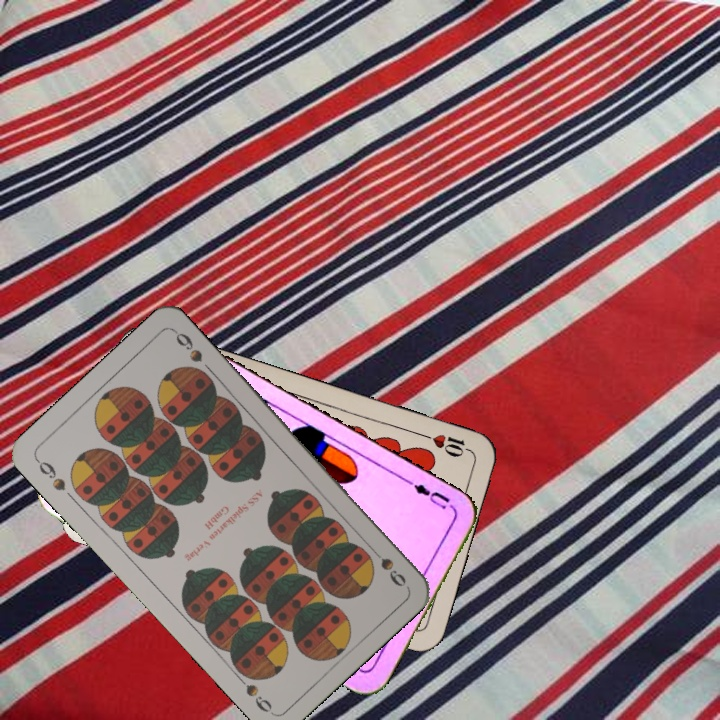EU: (405, 477, 458, 514)
H10: (418, 429, 475, 460)
S9: (364, 541, 409, 589), (32, 455, 69, 494)
